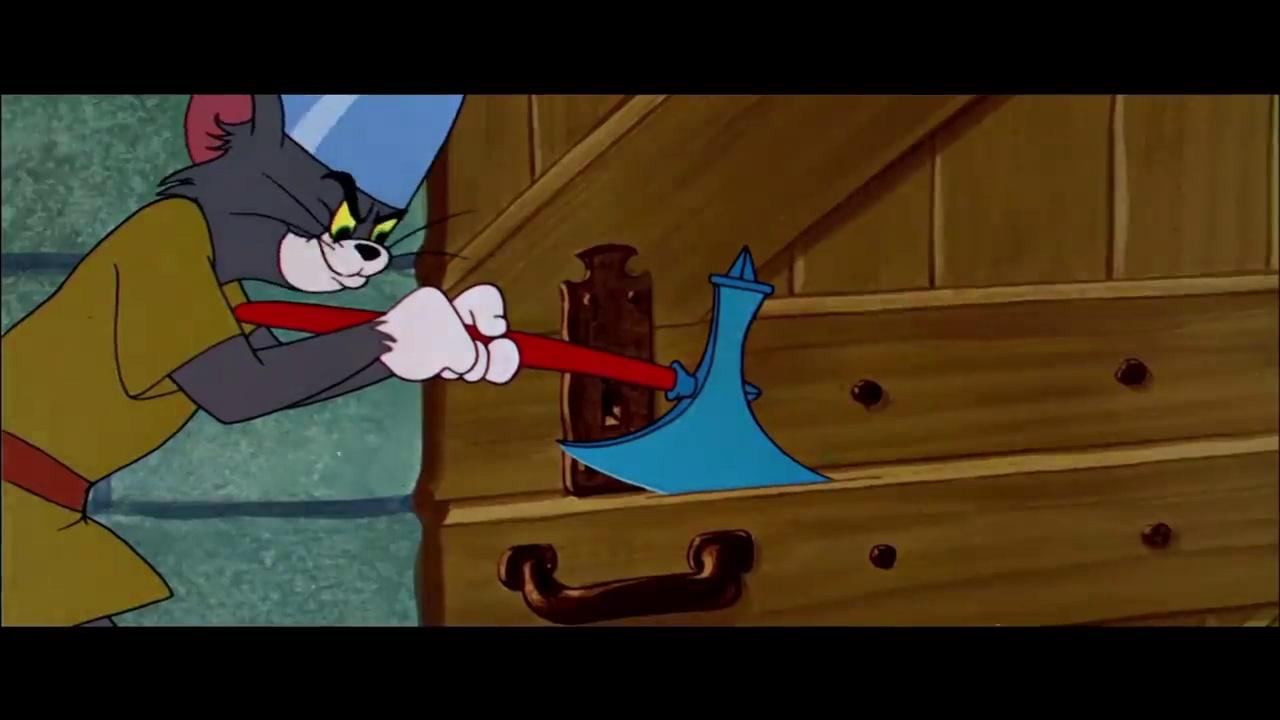Tom: (1, 94, 522, 627)
